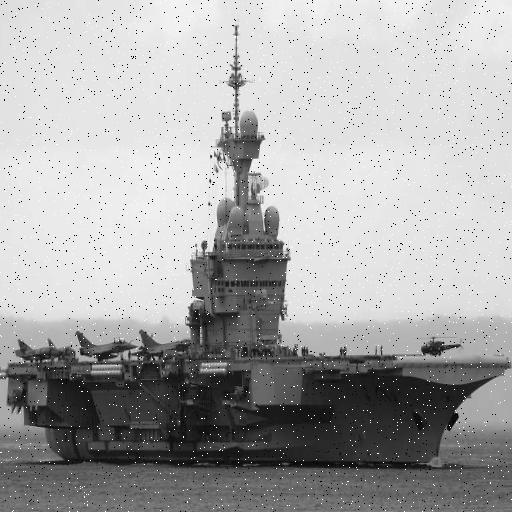Portanaves: (1, 21, 512, 471)
